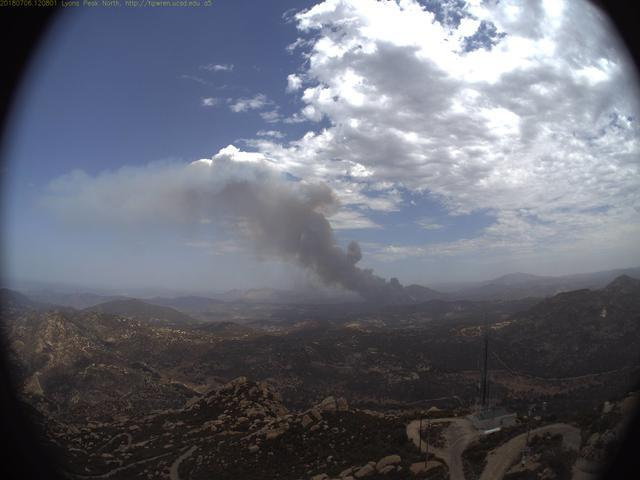smoke: (50, 152, 452, 320)
